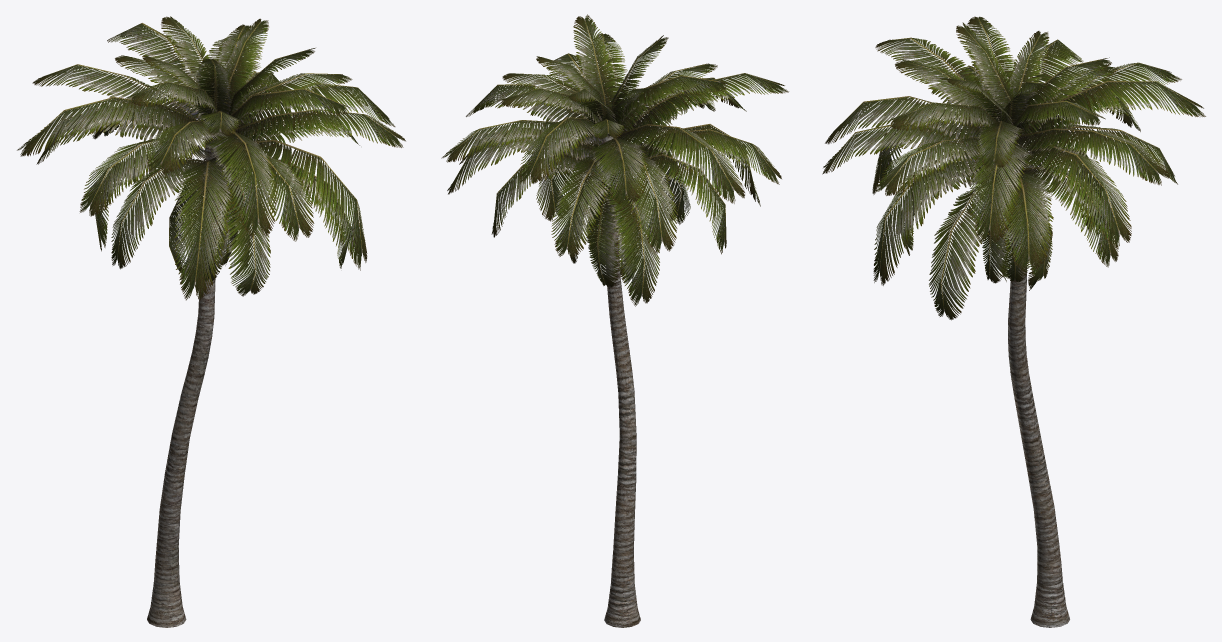
Rendered from Palmu2.fbx.
3 views of the same model, side by side, from view 1: azimuth 30°, elevation 25°; view 2: azimuth 150°, elevation 25°; view 3: azimuth 270°, elevation 25° (orthographic). The views are drawn at different scales.
Visible parts, largest first — view 1: Palmu2; view 2: Palmu2; view 3: Palmu2.
Boxes of the visible parts, left/top/right/bottom form: Palmu2: left=17, top=16, right=405, bottom=627; Palmu2: left=441, top=14, right=788, bottom=627; Palmu2: left=822, top=16, right=1205, bottom=627.
Size of the model in its own units: 597 by 1001 by 589.
